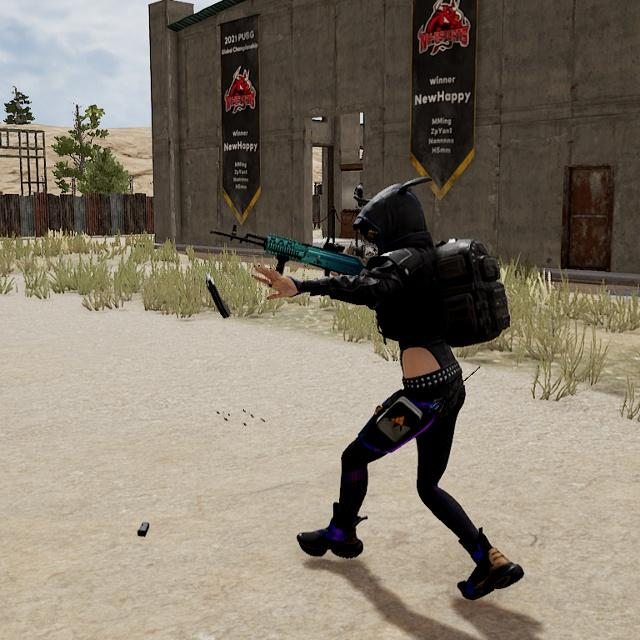head: (349, 185, 434, 261)
people: (289, 182, 522, 607)
